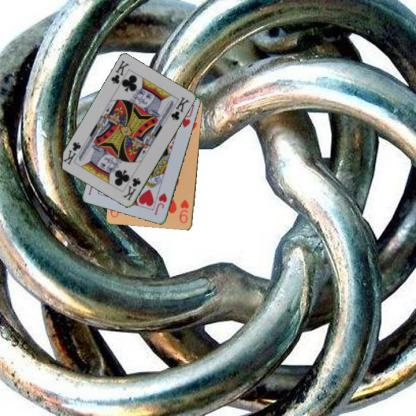9h: (177, 197, 190, 225)
Jh: (152, 190, 168, 216)
Kc: (108, 58, 130, 86), (120, 175, 142, 202)
